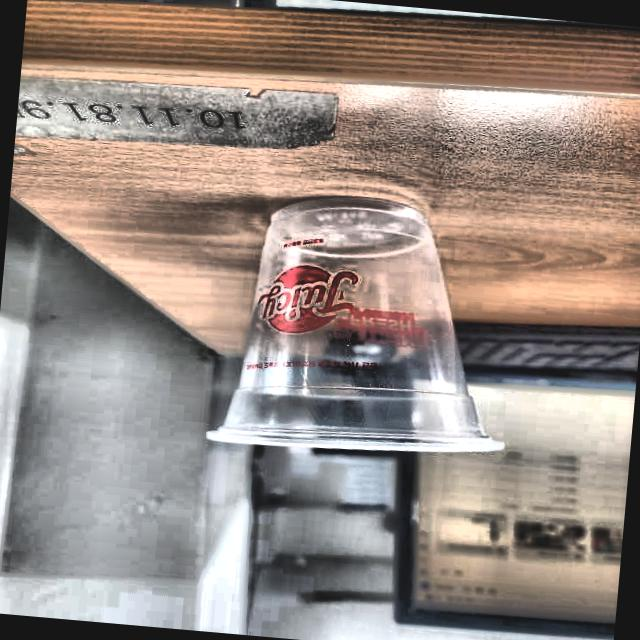plastic cup: (198, 186, 523, 468)
